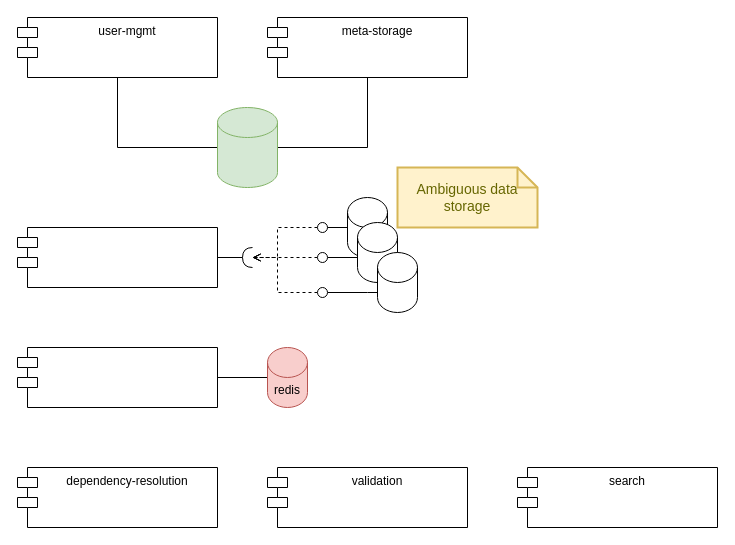
Some shapes in this 735 by 545 pixel diagram are drawn without their labels. Here are the shapes that lost their labels. From the top down, the box of each, then its label:
(216, 106, 278, 188): MongoDB
(16, 226, 218, 288): process-storage
(16, 346, 218, 408): tracker
